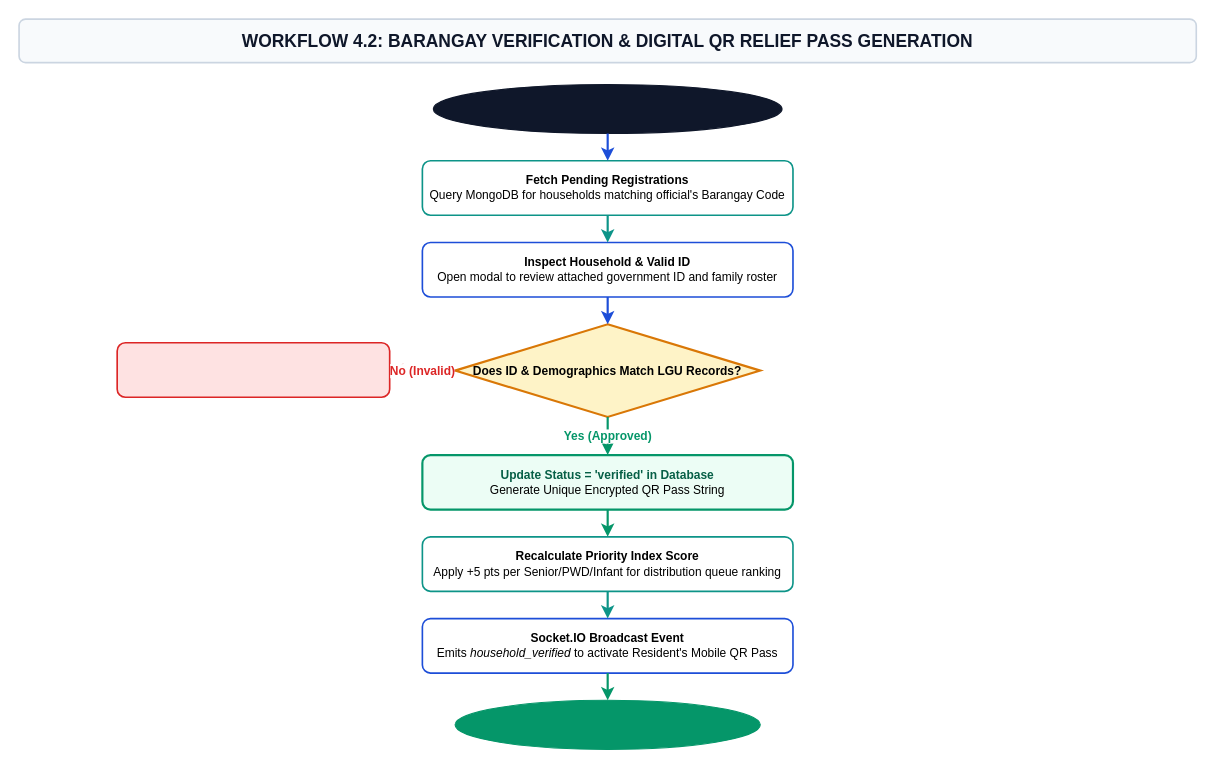
The diagram is 1216 pixels wide and 770 high, and some of its shapes have lost their labels. Each missing label, with the centre of its shape:
"End: Digital QR Relief Pass Successfully Issued" belongs at (x=607, y=724).
"Start: Barangay Official Opens Verification Queue" belongs at (x=607, y=108).
"Update Status = 'rejected' Enter feedback reason & broadcast rejection notice" belongs at (x=253, y=369).
